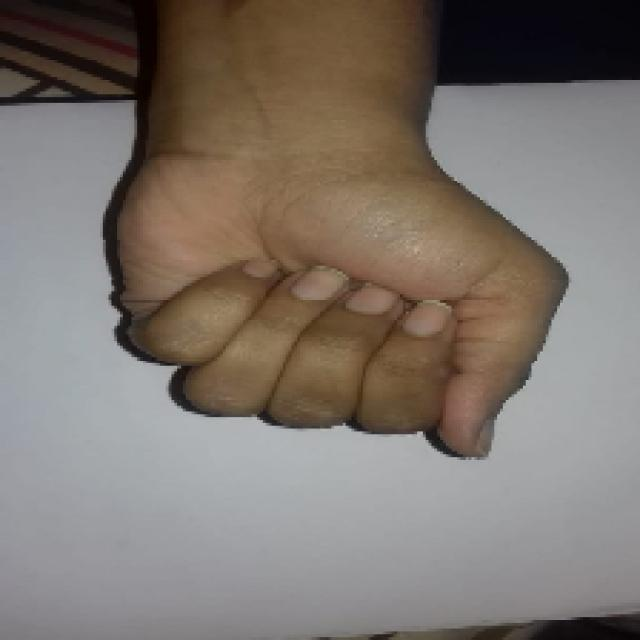Nail: (290, 265, 350, 300), (400, 299, 452, 338), (345, 282, 400, 315), (472, 419, 494, 458), (241, 260, 279, 278)
